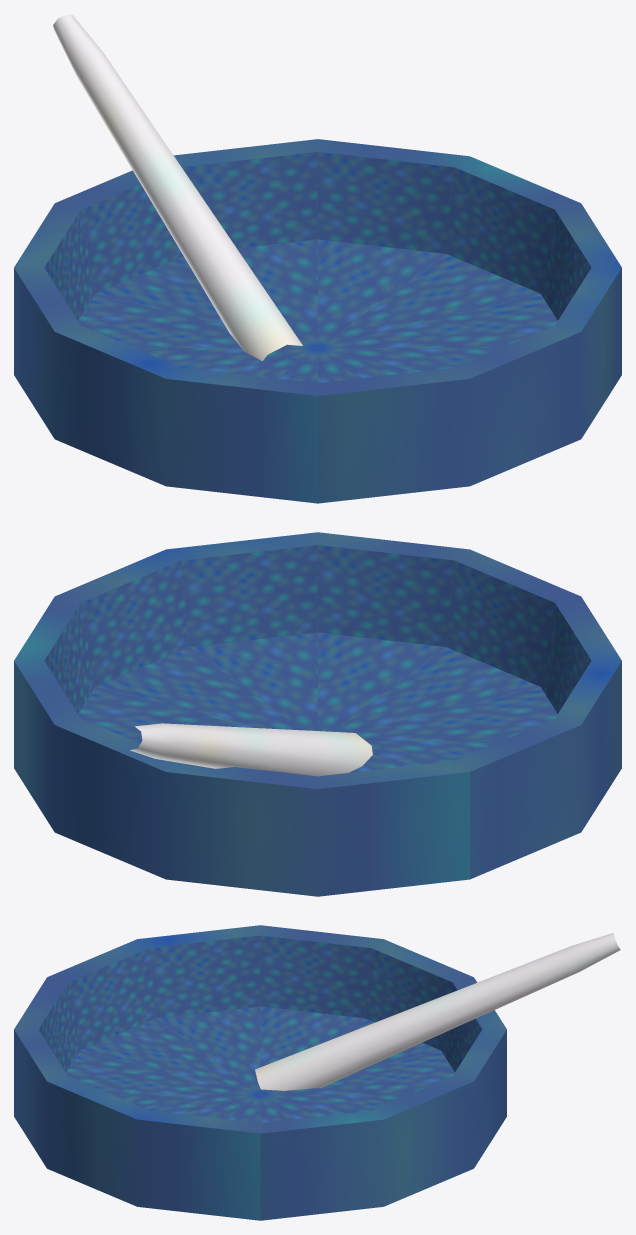
3 views of the same model, one above another, from view 1: azimuth 30°, elevation 25°; view 2: azimuth 150°, elevation 25°; view 3: azimuth 270°, elevation 25° (orthographic). The views are drawn at different scales.
Visible parts, largest first — view 1: SmokingAccesories04; view 2: SmokingAccesories04; view 3: SmokingAccesories04.
Boxes of the visible parts, x1=… form: SmokingAccesories04: x1=14, y1=14, x2=621, y2=503; SmokingAccesories04: x1=14, y1=532, x2=621, y2=896; SmokingAccesories04: x1=14, y1=925, x2=620, y2=1220.
Size of what is drawn, in the model's own units: 0.1988 by 0.0781 by 0.2452.
1 material, 1 textured.
